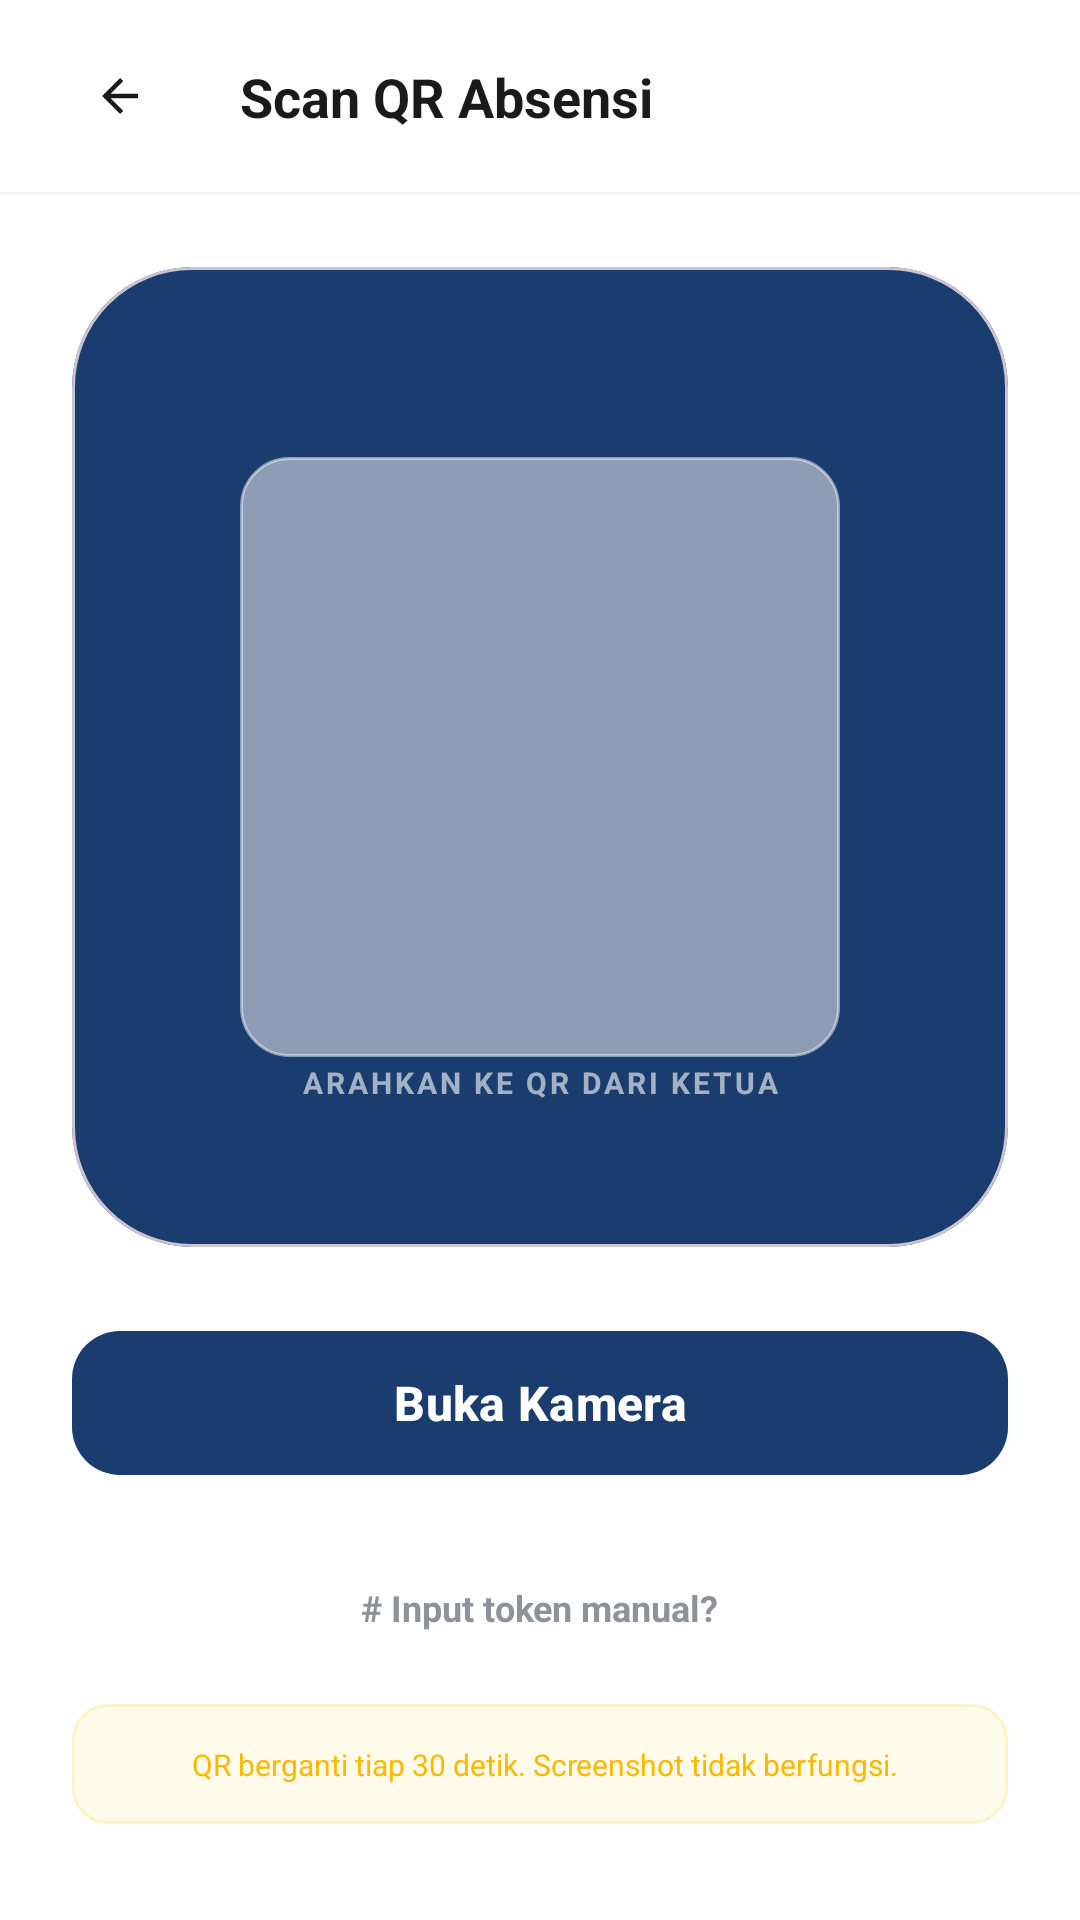

Where icons sit on this 1080 × 1920 app screen, as (x1, y1, x2, y2):
back: (102, 78, 138, 114)
